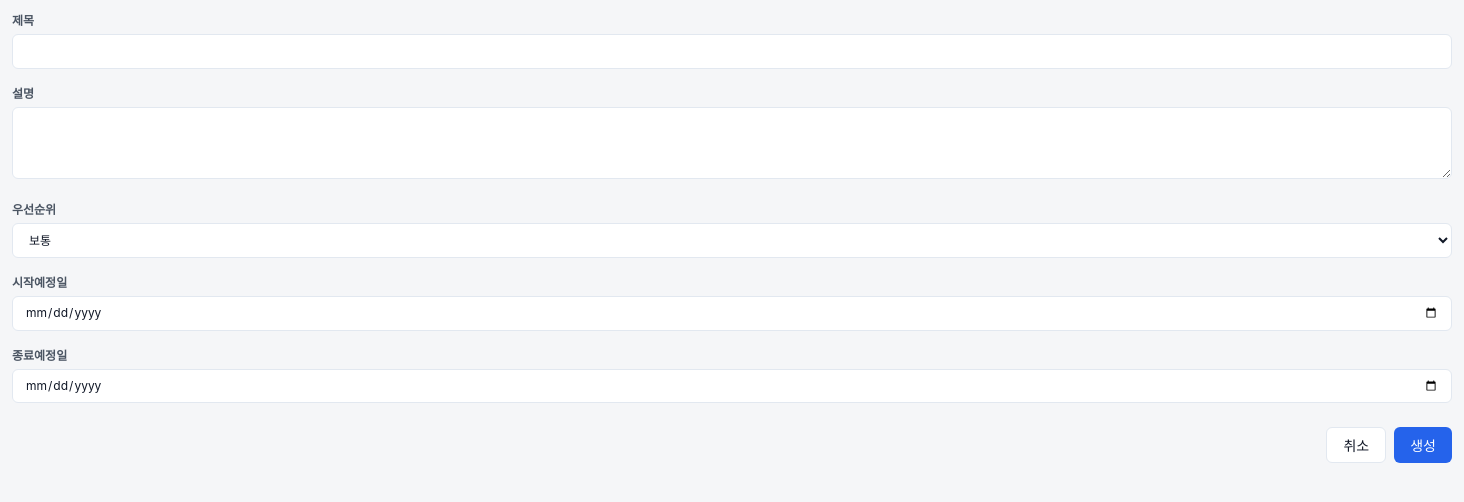
Test case: TicketForm (TC-COMP-004) › C004-4: 과거 종료예정일로 제출하면 날짜 에러를 표시한다
The width and height of the screenshot is (1464, 502).
Type "유효한 제목" into the field labelled "제목" at (732,51), box x1=12 y1=34 x2=1452 y2=69
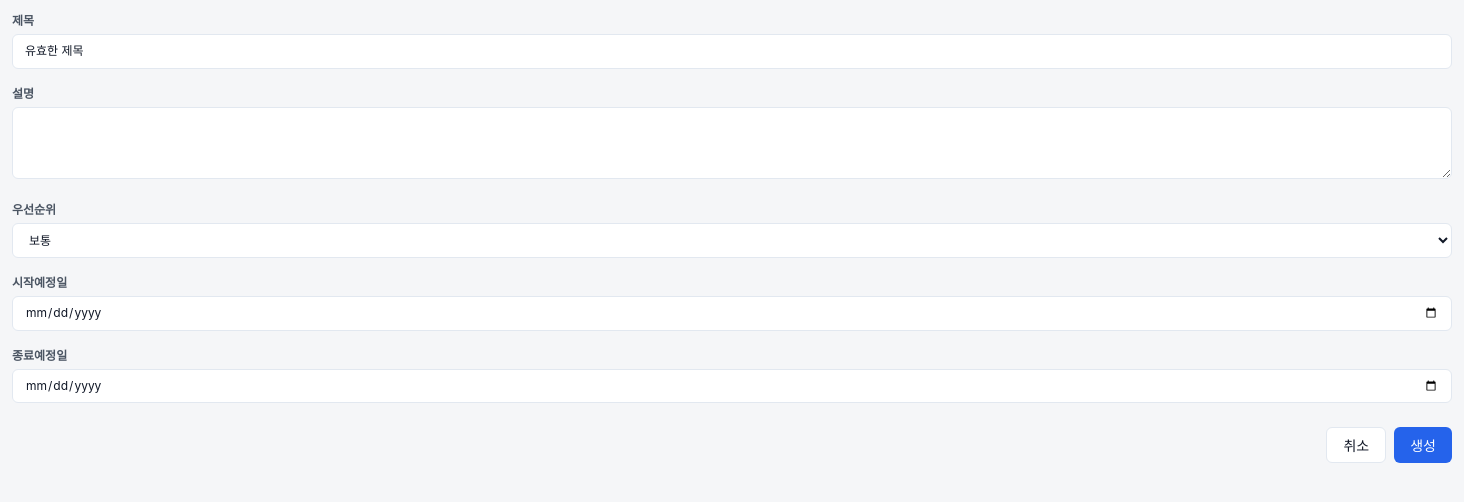
Type "2020-01-01" into the date field labelled "종료예정일" at (732,386), box x1=12 y1=369 x2=1452 y2=403
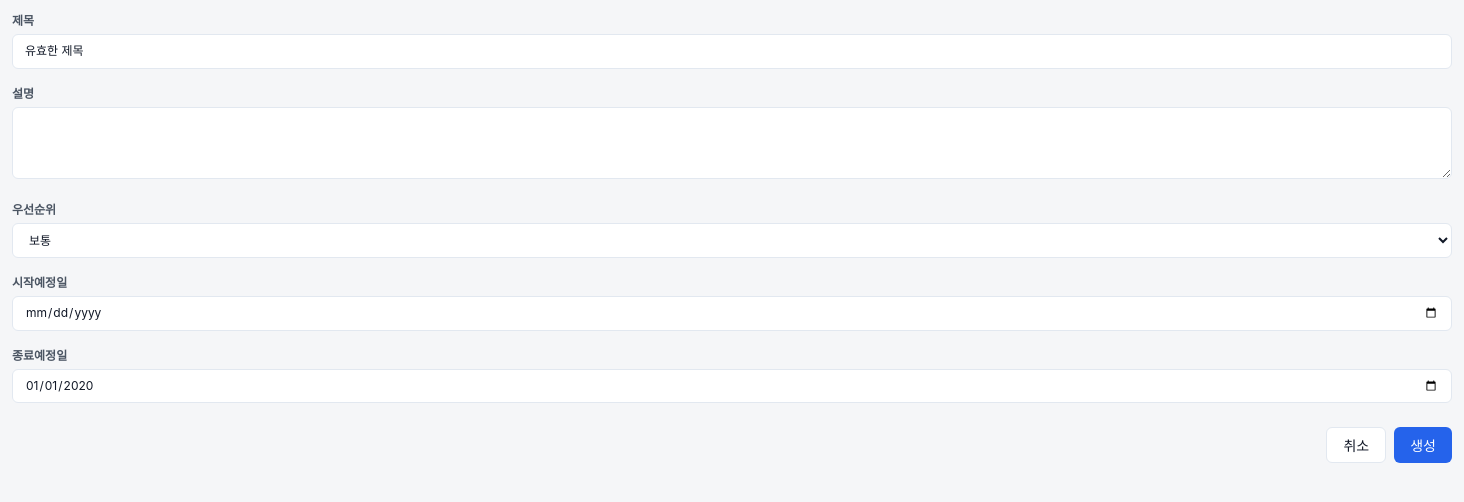
Click the button with test id "ticket-form-submit" at (1423,445), box x1=1394 y1=427 x2=1452 y2=463
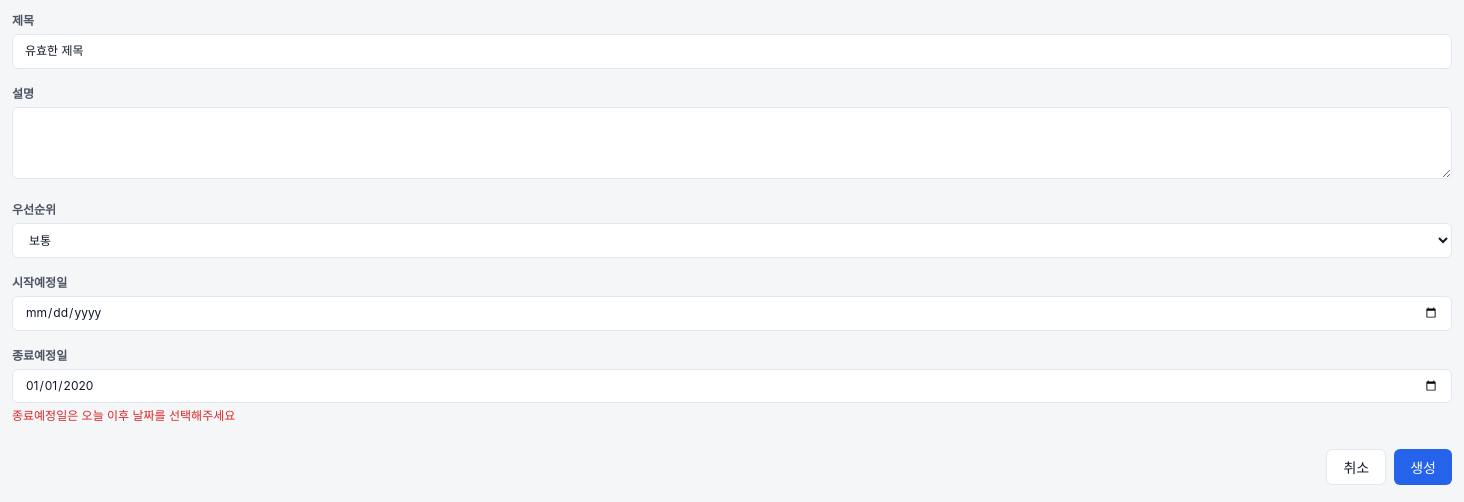
Now the text "종료예정일은 오늘 이후 날짜를 선택해주세요" is shown, box x1=12 y1=408 x2=235 y2=423
